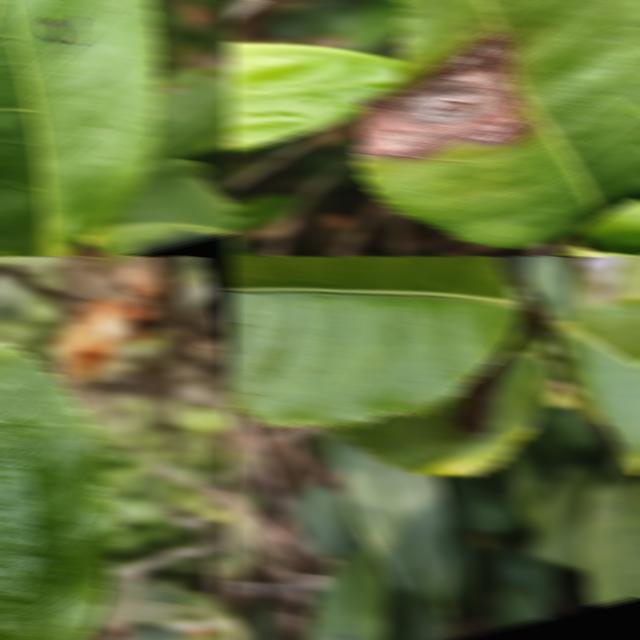Leaf: (358, 0, 640, 246), (226, 256, 522, 427), (0, 0, 160, 256), (0, 340, 115, 640), (337, 332, 553, 475), (336, 442, 455, 612), (226, 42, 404, 152), (82, 158, 234, 256), (556, 299, 640, 475), (145, 63, 234, 163), (575, 475, 640, 606), (524, 463, 602, 569), (307, 547, 388, 640), (291, 480, 368, 558), (443, 468, 529, 533), (491, 539, 558, 610), (522, 256, 576, 319), (582, 198, 640, 254), (483, 585, 551, 630), (540, 405, 602, 452), (185, 144, 234, 200), (243, 597, 280, 640), (104, 623, 188, 640)
